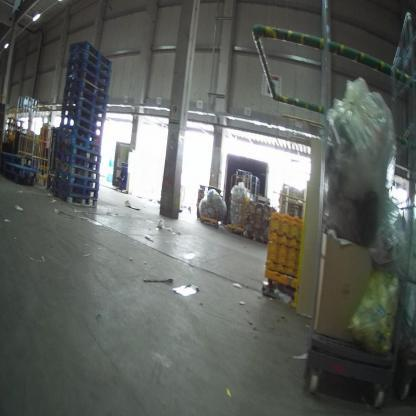pallets: (49, 25, 116, 217), (300, 329, 398, 409)
